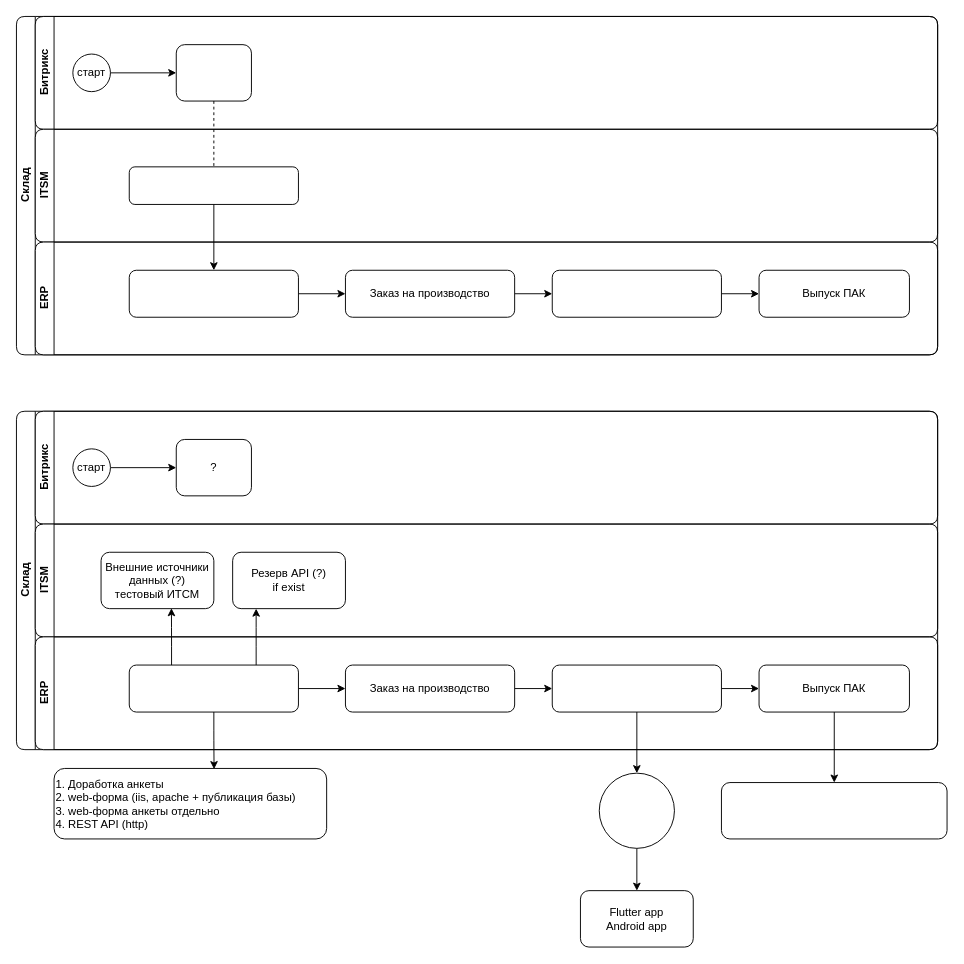
Image size: 964x964. Some labels were removed from this diagram. The box of each missing label's shape, as (x1, y1, x2, y2) in pixels:
API ТСД: (598, 772, 674, 848)
Веб форма создания контрагента и анкетирование: (128, 664, 298, 712)
Доработка формы списка заказа производства, адаптация для выхода из ИТСМ: (721, 782, 947, 839)
Заполнение карточки контрагента (анкета): (128, 166, 298, 204)
Партнер/Договор/Контрагент: (128, 269, 298, 317)
Подбор комплектующих: (551, 269, 721, 317)
Создание контрагента (ручное): (175, 44, 251, 101)
Этап производства Передача материалов в производство: (551, 664, 721, 712)
